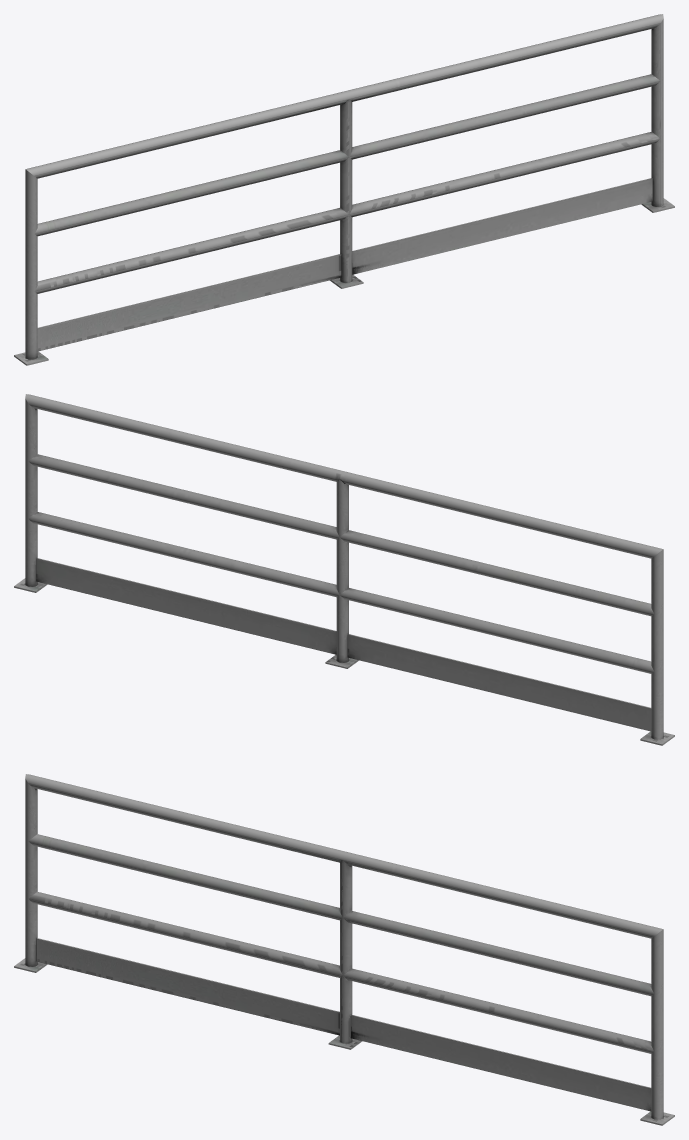
3 views of the same model, one above another, from view 1: azimuth 30°, elevation 25°; view 2: azimuth 150°, elevation 25°; view 3: azimuth 330°, elevation 25° (orthographic).
Parts seen in each view (by area): view 1: body0_model0_lod0_mesh0; view 2: body0_model0_lod0_mesh0; view 3: body0_model0_lod0_mesh0.
Part boxes in pixels (x1,y1,x2,y2): body0_model0_lod0_mesh0: [14, 14, 674, 365]; body0_model0_lod0_mesh0: [14, 394, 674, 745]; body0_model0_lod0_mesh0: [14, 774, 674, 1125].
Size of the model in its own units: 118 by 33 by 4.01.
1 material, 1 textured.
